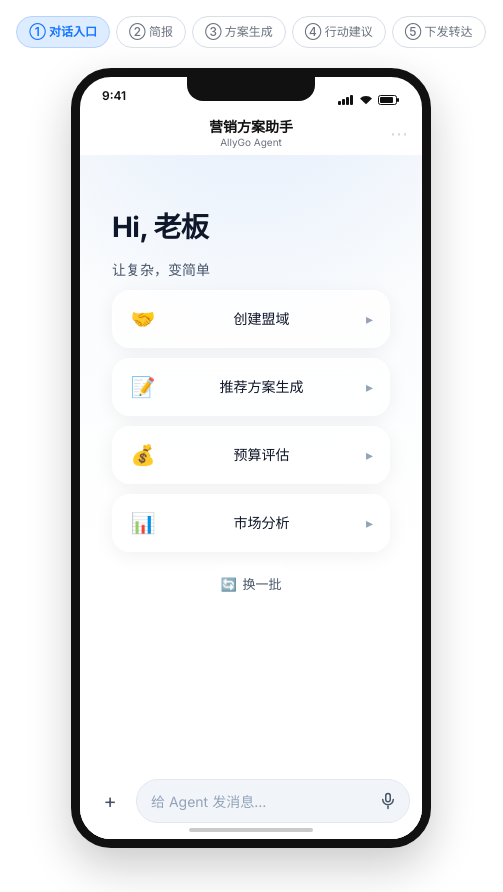
Test case: Mobile chat UI redesign › 空输入时显示语音按钮，有文字时显示发送按钮
Expected: the button named "语音输入" is shown, [370,783,406,819]
Type "hello" into the field with placeholder "给 Agent 发消息…".
click(273, 801); type("hello")  # box [136,779,410,823]
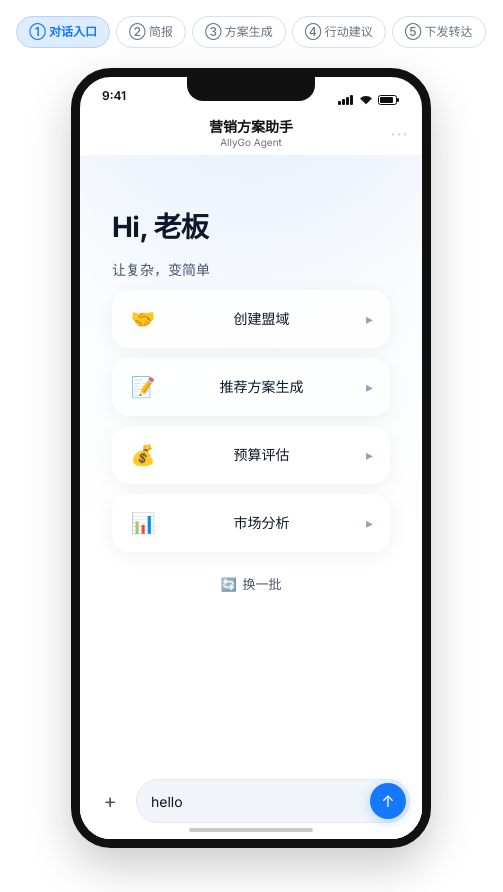
Expected: the button named "发送" is shown, [370,783,406,819]
